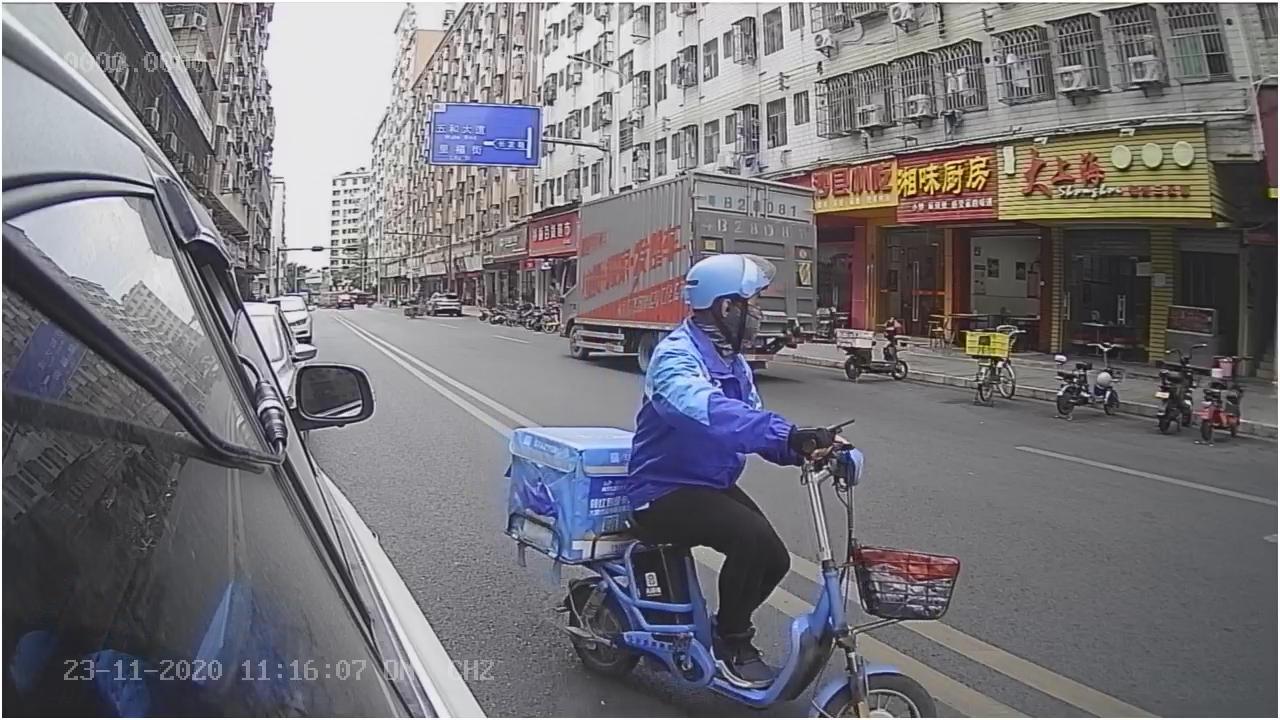person: (626, 244, 865, 449)
